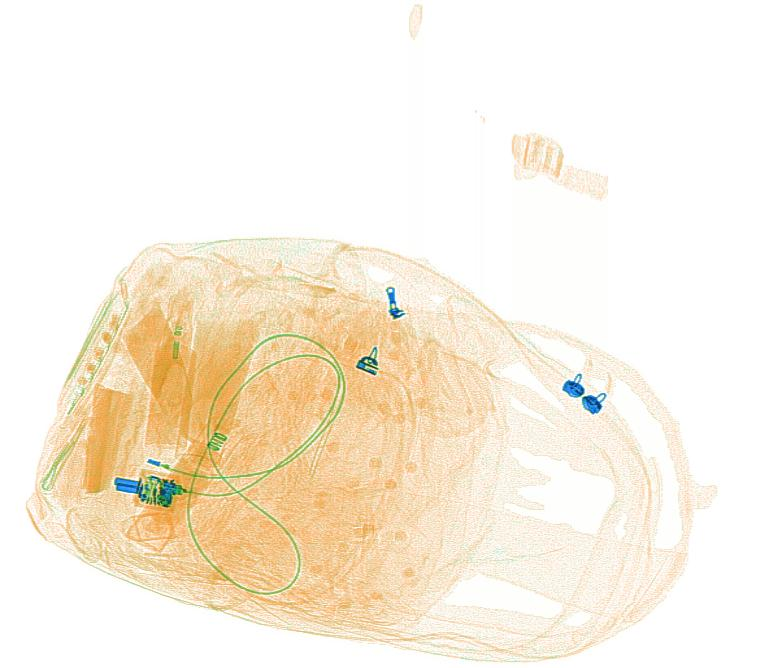plasticBottleWithaNozzle: (123, 415, 239, 552), (143, 293, 196, 450)
